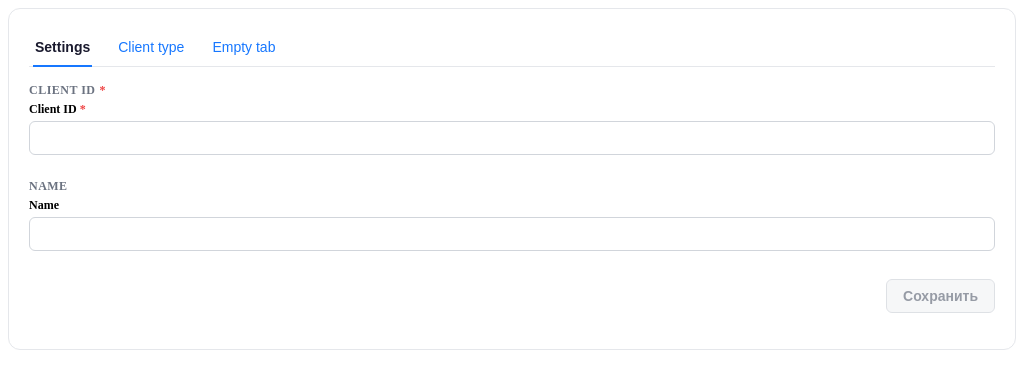
TabbedForm — базовый рендер › пустые fields в tab'е → empty message
This screenshot has width=1024, height=367.
Click the tab "Empty tab": (244, 48) [210, 29, 277, 67]
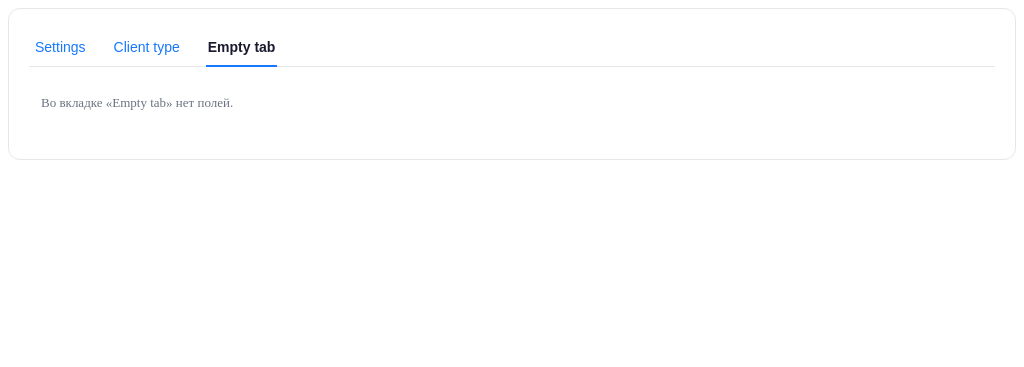
Result: the text "Во вкладке «Empty tab» нет полей." is shown at [41, 95, 233, 110]
